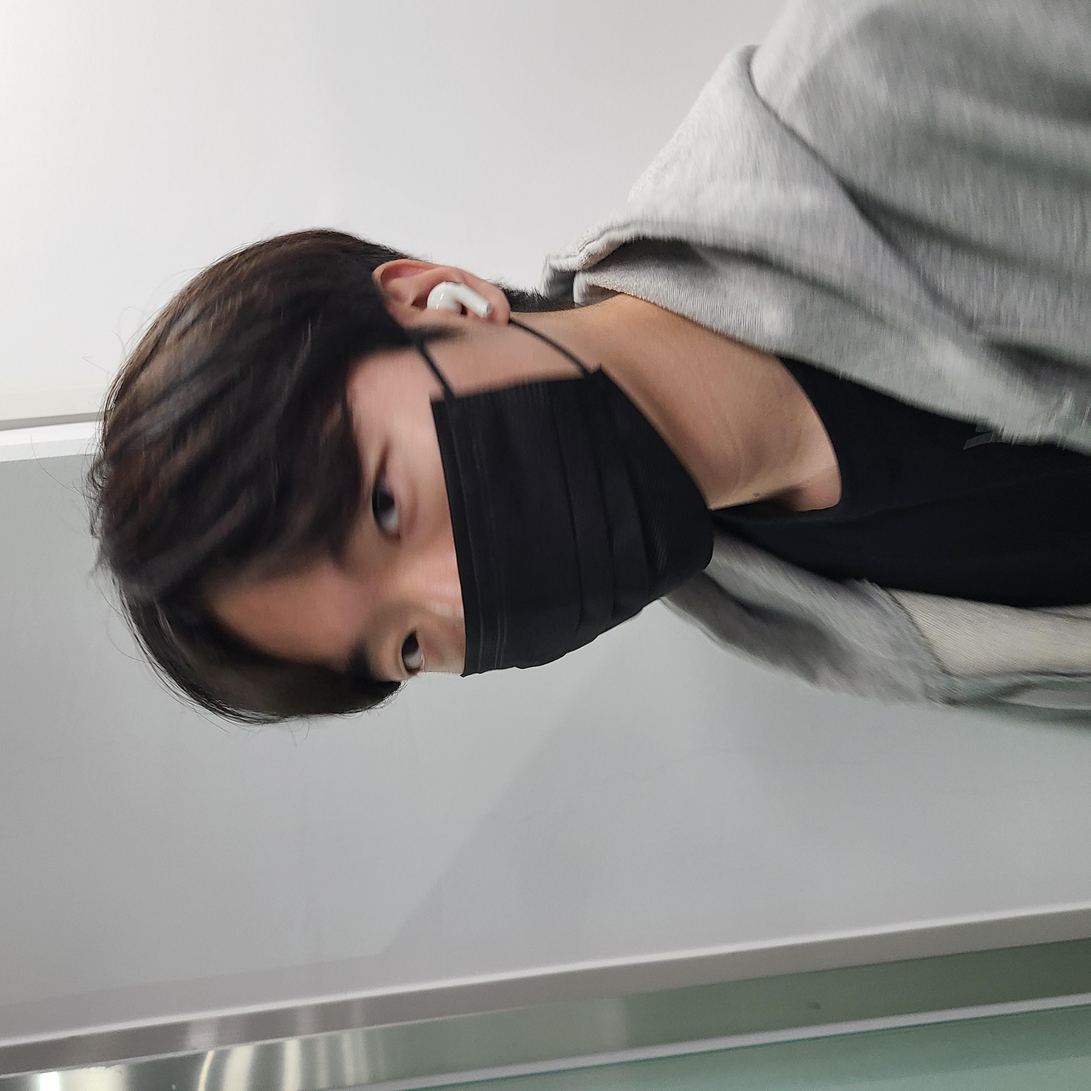earphone: (767, 415, 816, 497)
